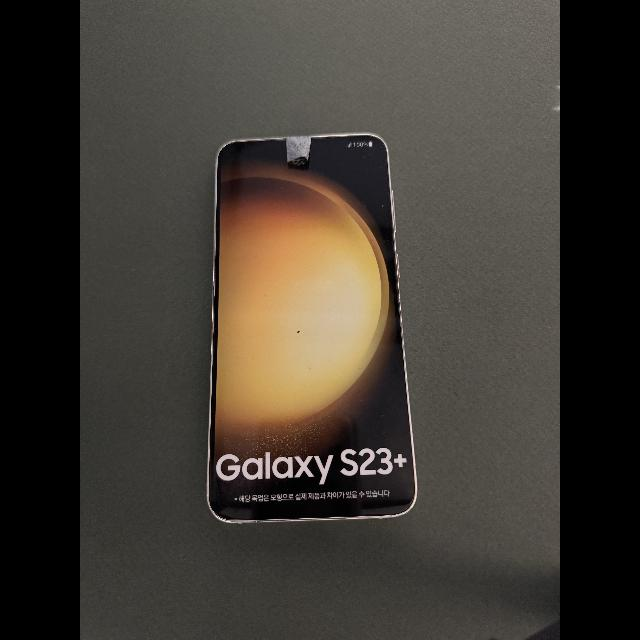phone: (207, 134, 417, 523)
sticker: (286, 136, 312, 166)
